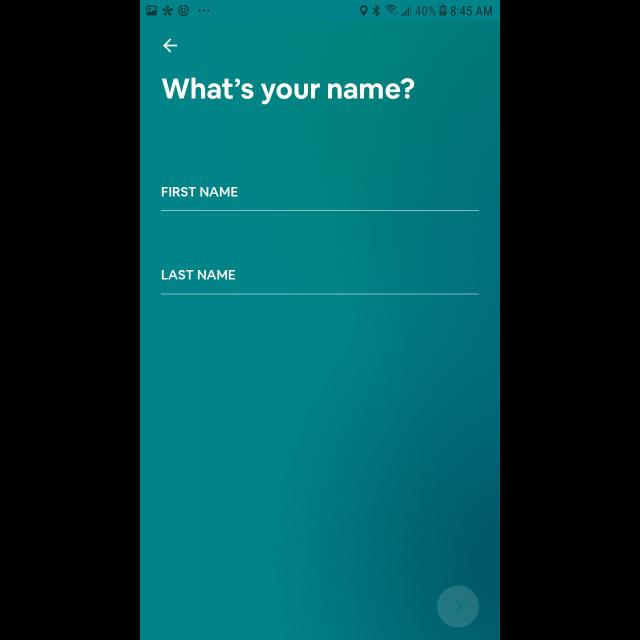icon: (436, 584, 479, 628), (164, 39, 178, 53)
input: (161, 186, 479, 212), (161, 270, 479, 294)
text: (162, 78, 414, 104), (162, 187, 238, 197), (162, 270, 235, 280)
uppertaskbar: (140, 1, 500, 22)
